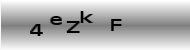4: (29, 23, 43, 37)
F: (109, 18, 122, 31)
Z: (64, 20, 80, 33)
e: (49, 16, 63, 25)
k: (79, 10, 93, 23)
